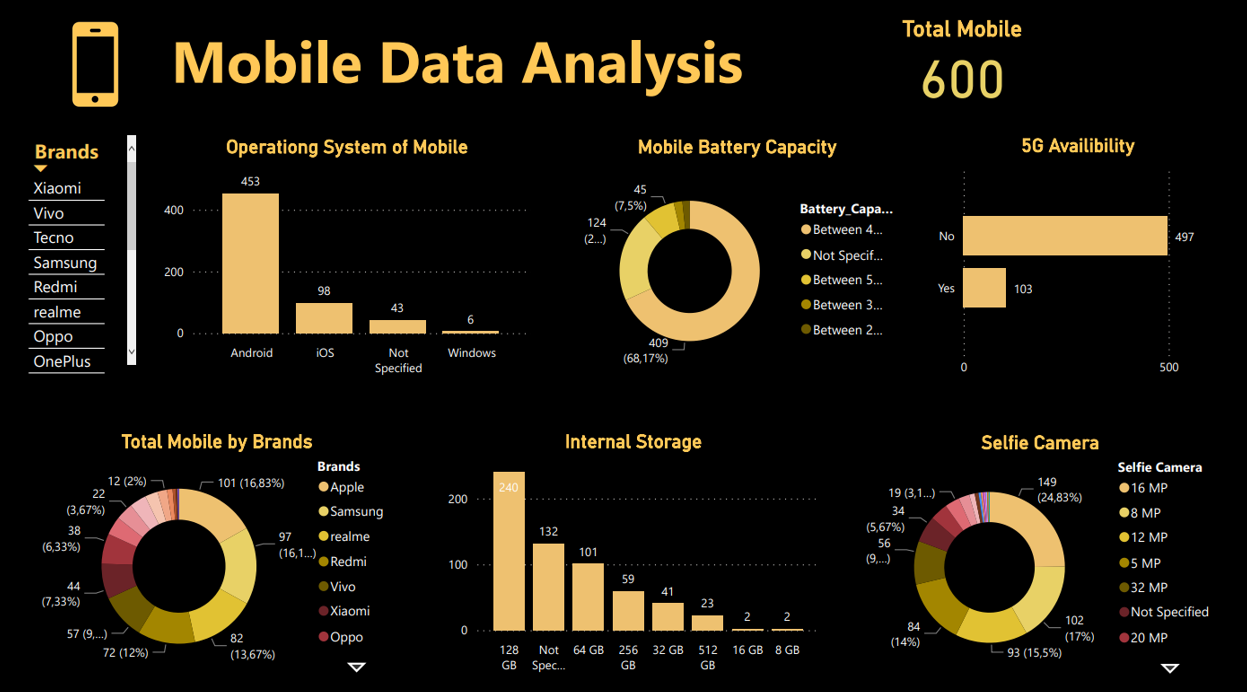

The page's visual inventory and layout, read from the dashboard file:
{"tool":"powerbi","page":{"name":"Page 1","canvas":[1280,720],"ordinal":0},"visuals":[{"type":"card","title":"Total Mobile","fields":{"Values":["Sum(Mobile_data.Total_Mobile)"]},"box":[824.7,21.4,257.1,89.3],"z":0},{"type":"clusteredColumnChart","title":"Operationg System of Mobile","fields":{"Category":["Mobile_data.Operating_System_Type"],"Y":["Sum(Mobile_data.Total_Mobile)"]},"box":[170.2,142.8,382,251.1],"z":1000},{"type":"donutChart","title":"Mobile Battery Capacity","fields":{"Category":["Mobile_data.Battery_Capacity_Range"],"Y":["Sum(Mobile_data.Total_Mobile)"]},"box":[591.5,142.8,330.8,252.3],"z":2000},{"type":"barChart","title":"5G Availibility","fields":{"Category":["Mobile_data.5G_Availability"],"Y":["Sum(Mobile_data.Total_Mobile)"]},"box":[953.3,141.6,297.5,253.5],"z":3000},{"type":"donutChart","title":"Total Mobile by Brands","fields":{"Category":["Mobile_data.Brands"],"Y":["Sum(Mobile_data.Total_Mobile)"]},"box":[45.2,441.5,367.7,253.5],"z":4000},{"type":"columnChart","title":"Internal Storage","fields":{"Y":["Sum(Mobile_data.Total_Mobile)"],"Category":["Mobile_data.Internal_Storage"]},"box":[458.2,441.5,386.8,253.5],"z":5000},{"type":"donutChart","title":"Selfie Camera","fields":{"Y":["Sum(Mobile_data.Total_Mobile)"],"Category":["Mobile_data.Selfie_Camera"]},"box":[877.1,442.7,373.7,253.5],"z":6000},{"type":"textbox","box":[32.1,21.4,898.5,89.3],"z":7000},{"type":"tableEx","fields":{"Values":["Mobile_data.Brands"]},"box":[32.1,138,120.2,251.1],"z":8000}]}

Visuals, with their boxes in screenshot pixels (x1, y1, x2, y2), scaled from the page's 1280x720 canvas onto the 1247x692 screenshot:
"Total Mobile" card: {"left": 803, "top": 21, "right": 1054, "bottom": 106}
"Operationg System of Mobile" clusteredColumnChart: {"left": 166, "top": 137, "right": 538, "bottom": 379}
"Mobile Battery Capacity" donutChart: {"left": 576, "top": 137, "right": 899, "bottom": 380}
"5G Availibility" barChart: {"left": 929, "top": 136, "right": 1219, "bottom": 380}
"Total Mobile by Brands" donutChart: {"left": 44, "top": 424, "right": 402, "bottom": 668}
"Internal Storage" columnChart: {"left": 446, "top": 424, "right": 823, "bottom": 668}
"Selfie Camera" donutChart: {"left": 854, "top": 425, "right": 1219, "bottom": 669}
textbox: {"left": 31, "top": 21, "right": 907, "bottom": 106}
tableEx - Mobile_data.Brands: {"left": 31, "top": 133, "right": 148, "bottom": 374}
